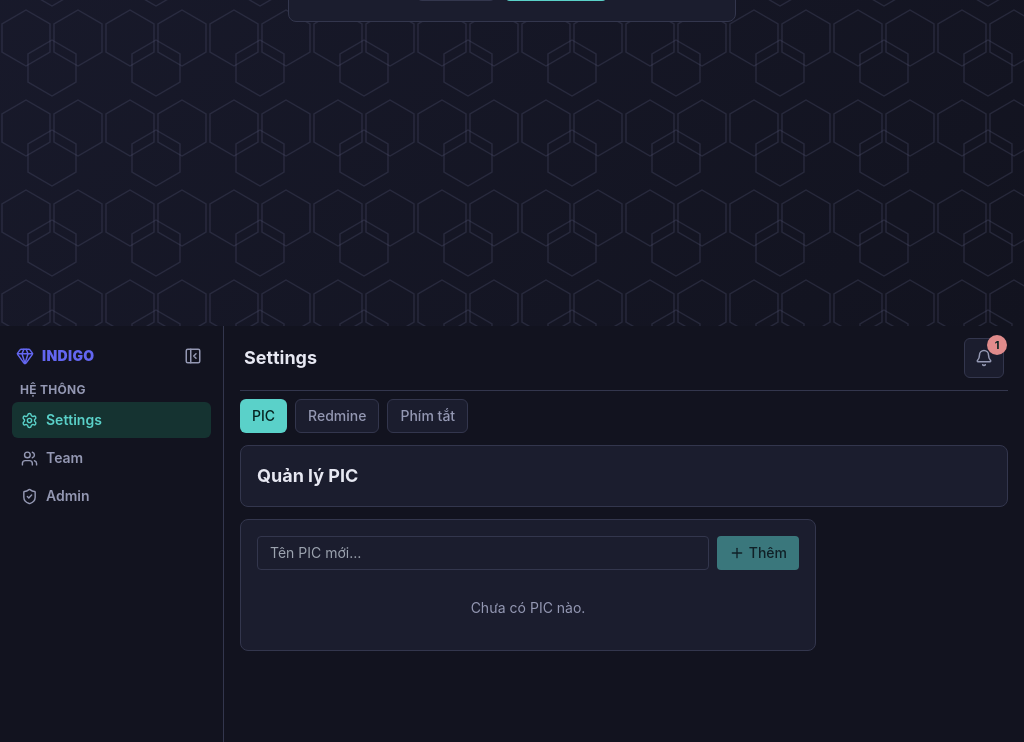
App() — ẩn tab theo team_feature_visibility (CR-20260913 FR-7) › admin có notification yêu cầu tham gia -> chuông mở thẳng Admin/Yêu cầu tham gia và đánh dấu đã đọc
(page scrolled)
Click the button named "Thông báo (1 chưa đọc)". click: {"x": 984, "y": 358}
box: 964,338 -> 1004,378
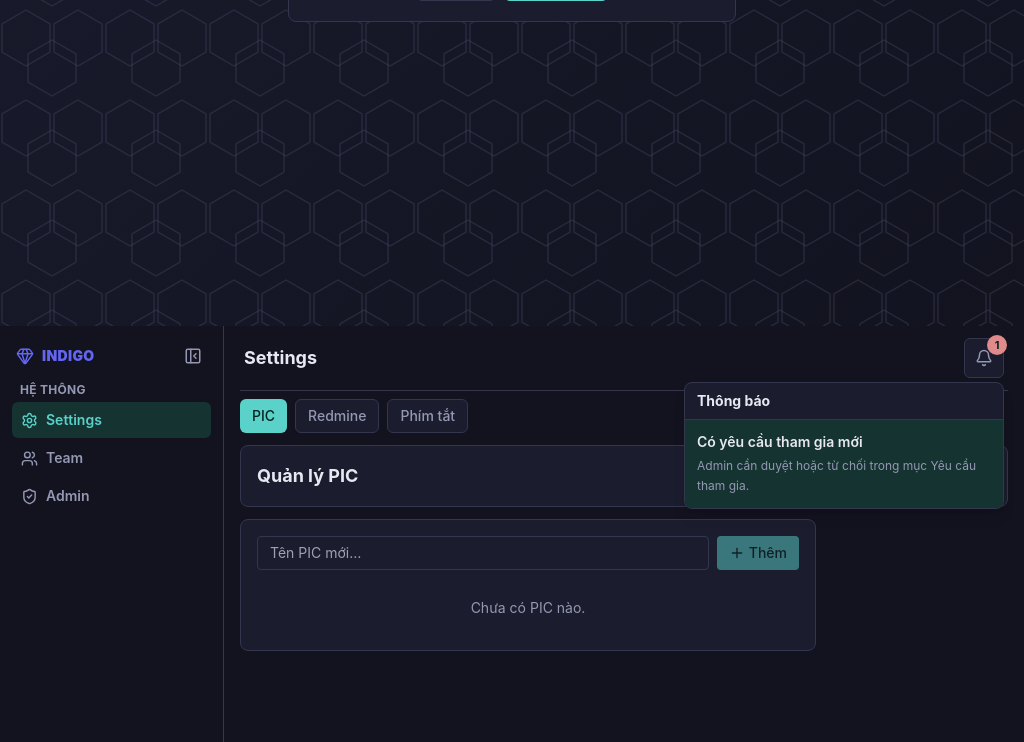
Click the menu item "Có yêu cầu tham gia mới". click: {"x": 844, "y": 464}
box: 685,420 -> 1003,508
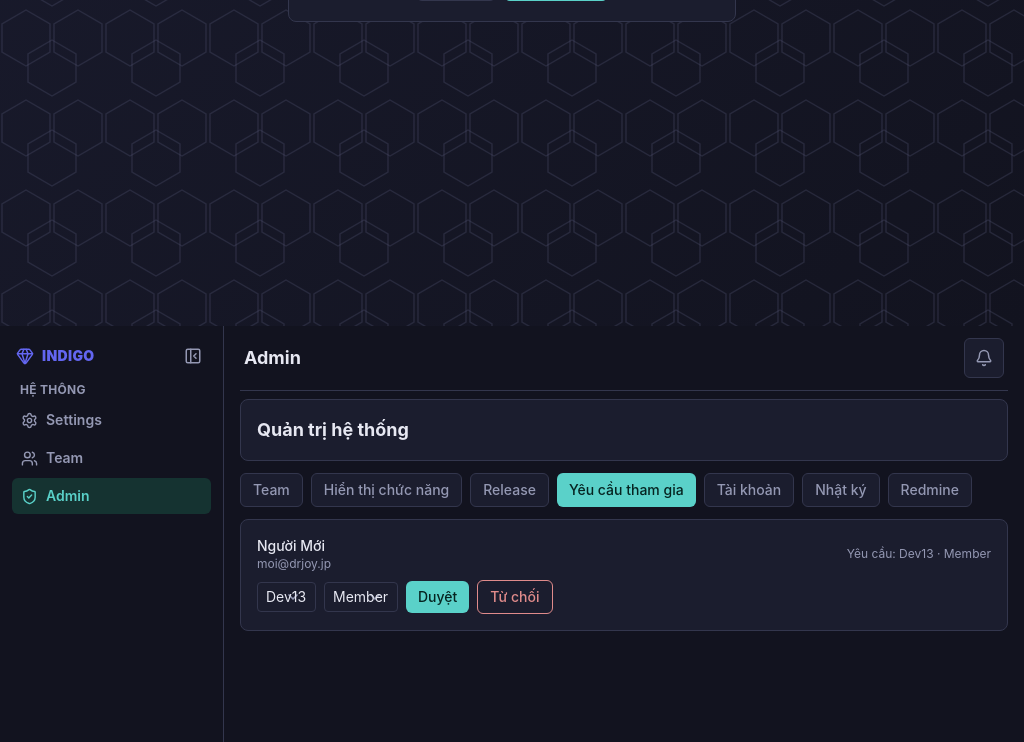
Expected: the text "Người Mới" is shown, 257,536 -> 331,556
